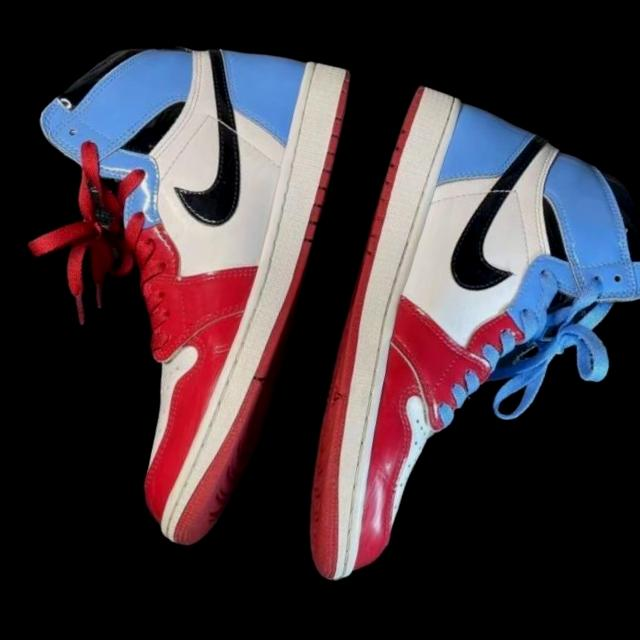nike_original_jordan: (0, 0, 377, 565), (290, 78, 640, 637)
